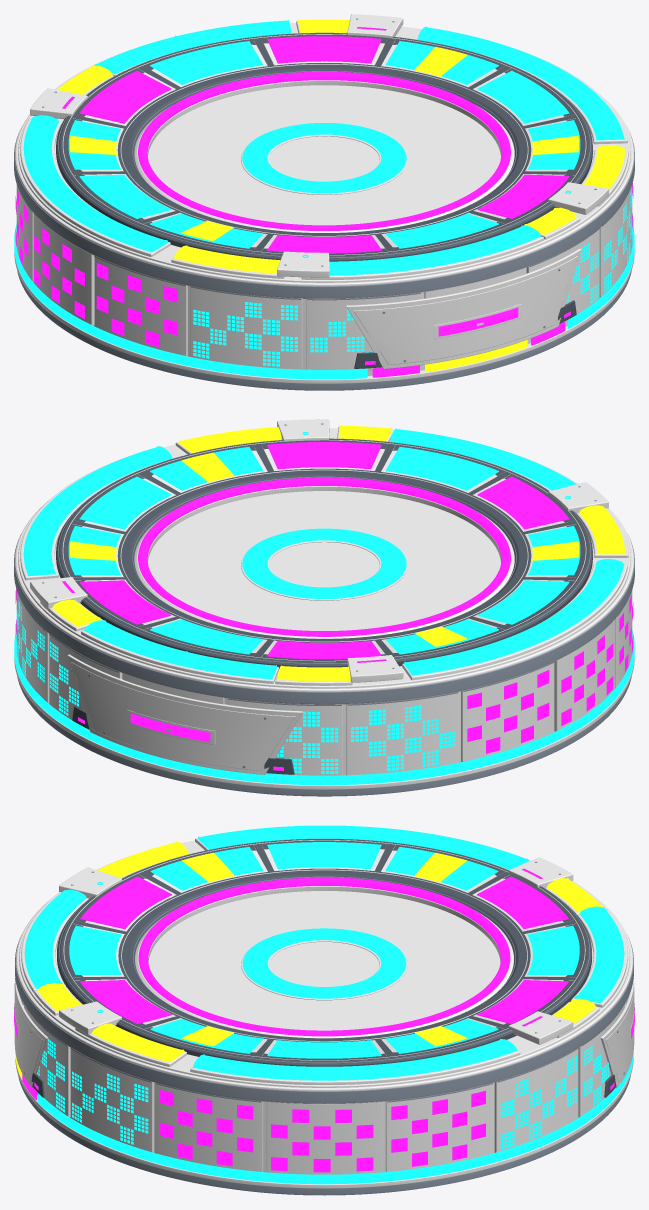
Rendered from Standard.fbx.
3 views of the same model, one above another, from view 1: azimuth 30°, elevation 25°; view 2: azimuth 150°, elevation 25°; view 3: azimuth 270°, elevation 25° (orthographic).
Visible parts, largest first — view 1: SM_Puck_Standard_Neon; view 2: SM_Puck_Standard_Neon; view 3: SM_Puck_Standard_Neon.
Part boxes in pixels (x1,y1,x2,y2): SM_Puck_Standard_Neon: (14, 14, 634, 390); SM_Puck_Standard_Neon: (14, 419, 634, 796); SM_Puck_Standard_Neon: (14, 825, 634, 1195).
Size of the model in its own units: 90 by 90.28 by 20.
